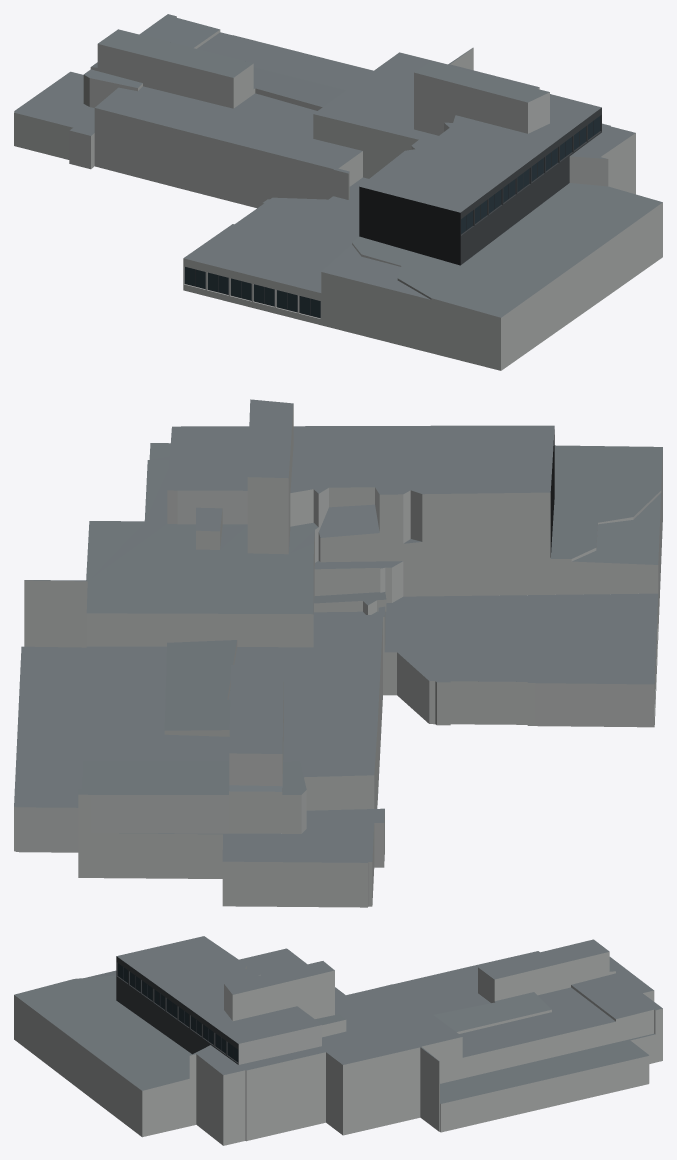
File: recipe-large-politie-flierbosdreef.glb
3 renders of one model, top to bottom at view 1: azimuth 30°, elevation 25°; view 2: azimuth 150°, elevation 25°; view 3: azimuth 270°, elevation 25°, orthographic. The views are drawn at different scales.
Visible parts, largest first — view 1: politie-flierbosdreef; view 2: politie-flierbosdreef; view 3: politie-flierbosdreef.
Boxes of the visible parts, box(x1,y1,x2,y2) form: politie-flierbosdreef: box(14, 14, 662, 370); politie-flierbosdreef: box(14, 399, 662, 907); politie-flierbosdreef: box(14, 936, 662, 1145).
Size of the model in its own units: 64.07 by 20.75 by 103.
